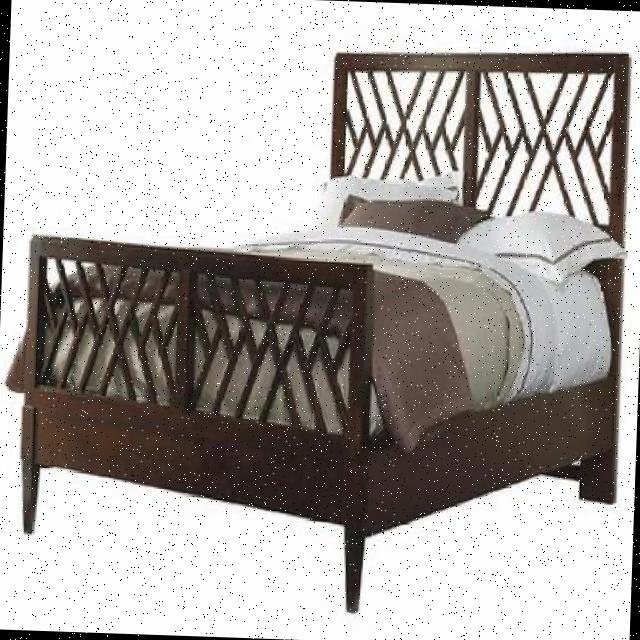Bed: (0, 25, 635, 628)
